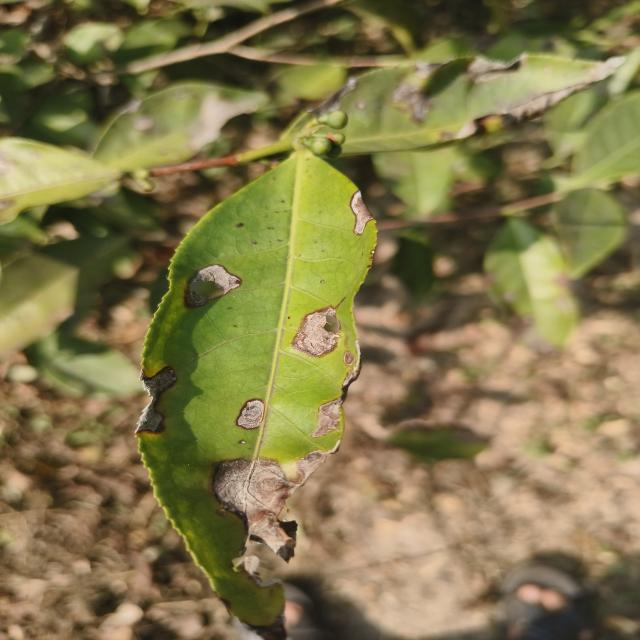Leaf: (136, 149, 376, 638), (329, 54, 620, 155), (93, 81, 267, 172), (0, 236, 125, 355), (484, 218, 577, 345), (0, 137, 120, 224), (25, 331, 142, 397), (569, 92, 640, 188), (372, 147, 455, 218), (389, 428, 487, 462), (391, 230, 435, 300)
